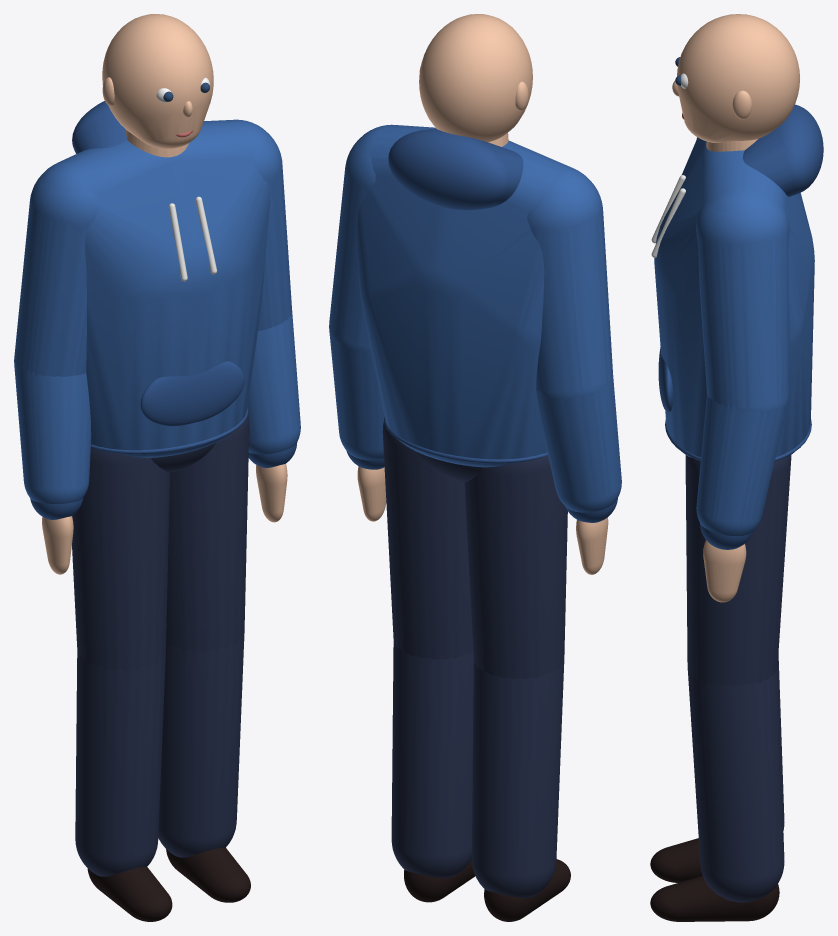
Rendered from body_M.glb.
3 renders of one model, left to right at view 1: azimuth 30°, elevation 25°; view 2: azimuth 150°, elevation 25°; view 3: azimuth 270°, elevation 25°, orthographic. The views are drawn at different scales.
Parts seen in each view (by area): view 1: hoodie_0, thigh_7, calf_8, calf_11, thigh_10, sleeve_15, head_26, sleeve_16, sleeve_22, pocket_3, sleeve_21, shoe_9 (+8 smaller); view 2: hoodie_0, thigh_7, calf_8, calf_11, thigh_10, sleeve_15, head_26, sleeve_16, hood_2, sleeve_21, sleeve_22, shoe_9 (+5 smaller); view 3: hoodie_0, calf_11, sleeve_21, thigh_10, head_26, sleeve_22, hood_2, shoe_12, hand_24, shoe_9, pocket_3, cuff_23 (+4 smaller).
Part boxes in pixels (left/top/right/bottom): hoodie_0: left=41, top=119, right=270, bottom=457; thigh_7: left=72, top=447, right=169, bottom=671; calf_8: left=75, top=652, right=165, bottom=876; calf_11: left=158, top=632, right=244, bottom=857; thigh_10: left=166, top=413, right=249, bottom=652; sleeve_15: left=14, top=174, right=99, bottom=376; head_26: left=102, top=14, right=213, bottom=148; sleeve_16: left=14, top=359, right=91, bottom=503; sleeve_22: left=247, top=313, right=300, bottom=454; pocket_3: left=140, top=361, right=244, bottom=426; sleeve_21: left=253, top=133, right=292, bottom=330; shoe_9: left=87, top=866, right=172, bottom=921; hoodie_0: left=357, top=124, right=590, bottom=467; thigh_7: left=464, top=452, right=567, bottom=678; calf_8: left=471, top=660, right=564, bottom=897; calf_11: left=391, top=642, right=473, bottom=878; thigh_10: left=382, top=422, right=473, bottom=659; sleeve_15: left=527, top=180, right=612, bottom=401; head_26: left=419, top=14, right=532, bottom=142; sleeve_16: left=536, top=375, right=621, bottom=512; hood_2: left=388, top=129, right=523, bottom=210; sleeve_21: left=329, top=138, right=375, bottom=351; sleeve_22: left=329, top=324, right=384, bottom=460; shoe_9: left=484, top=859, right=570, bottom=921; hoodie_0: left=654, top=137, right=814, bottom=457; calf_11: left=687, top=667, right=784, bottom=902; sleeve_21: left=696, top=202, right=789, bottom=414; thigh_10: left=685, top=455, right=791, bottom=685; head_26: left=677, top=14, right=799, bottom=142; sleeve_22: left=696, top=394, right=788, bottom=535; hood_2: left=742, top=104, right=823, bottom=196; shoe_12: left=650, top=876, right=779, bottom=921; hand_24: left=703, top=540, right=746, bottom=602; shoe_9: left=650, top=838, right=702, bottom=882; pocket_3: left=658, top=347, right=673, bottom=412; cuff_23: left=700, top=523, right=752, bottom=549.
Size of the model in its own units: 0.5717 by 1.77 by 0.3151.
